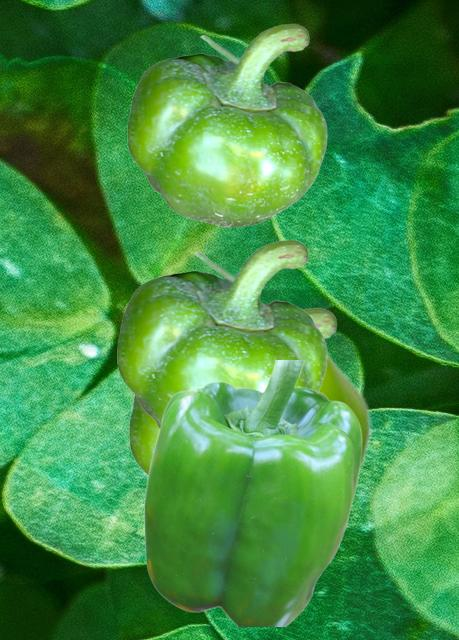bell_pepper: (143, 360, 361, 625), (127, 23, 326, 226), (117, 239, 326, 430), (129, 307, 339, 476), (158, 321, 371, 479)
